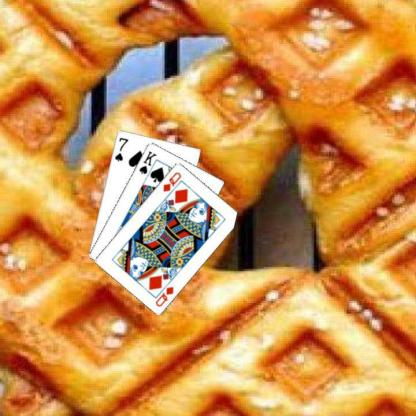7S: (112, 135, 130, 162)
KS: (136, 148, 158, 175)
QD: (160, 169, 183, 193), (153, 284, 175, 308)
